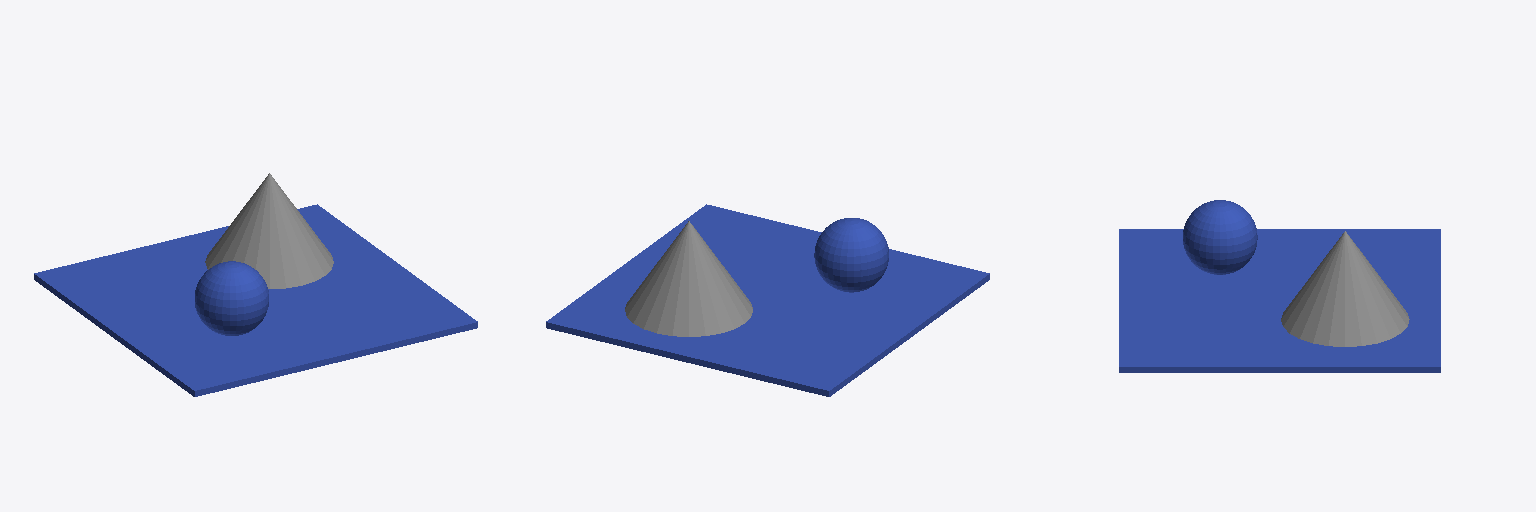
File: shadowscene3.obj
3 views of the same model, side by side, from view 1: azimuth 30°, elevation 25°; view 2: azimuth 150°, elevation 25°; view 3: azimuth 270°, elevation 25° (orthographic).
Visible parts, largest first — view 1: Box001, Cone001, Sphere001; view 2: Box001, Cone001, Sphere001; view 3: Box001, Cone001, Sphere001.
Boxes of the visible parts, x1,y1,x2,y2 form: Box001: [34, 204, 477, 396]; Cone001: [205, 173, 333, 288]; Sphere001: [195, 261, 268, 335]; Box001: [546, 204, 989, 396]; Cone001: [625, 221, 752, 336]; Sphere001: [814, 218, 888, 292]; Box001: [1119, 229, 1440, 372]; Cone001: [1281, 231, 1409, 346]; Sphere001: [1183, 200, 1257, 274].
Size of the model in its own units: 15.31 by 4.95 by 15.04.